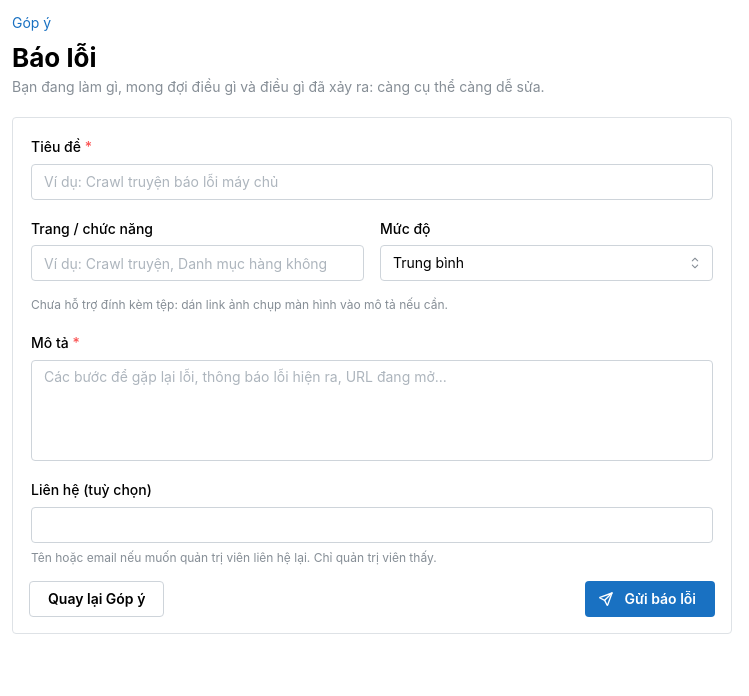
Scenario: BugReportPage › không gửi gì khi thiếu tiêu đề hoặc mô tả quá ngắn
Type "ab" into the field labelled "Tiêu đề *". click: (372, 182)
box: [31,164,713,200]
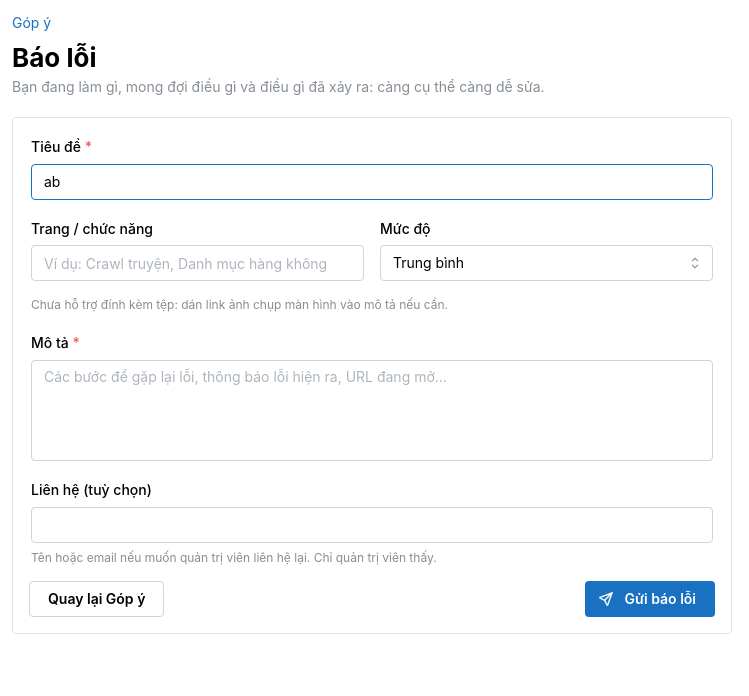
Type "ngắn" into the text box labelled "Mô tả *". click: (372, 410)
box: [31,360,713,461]
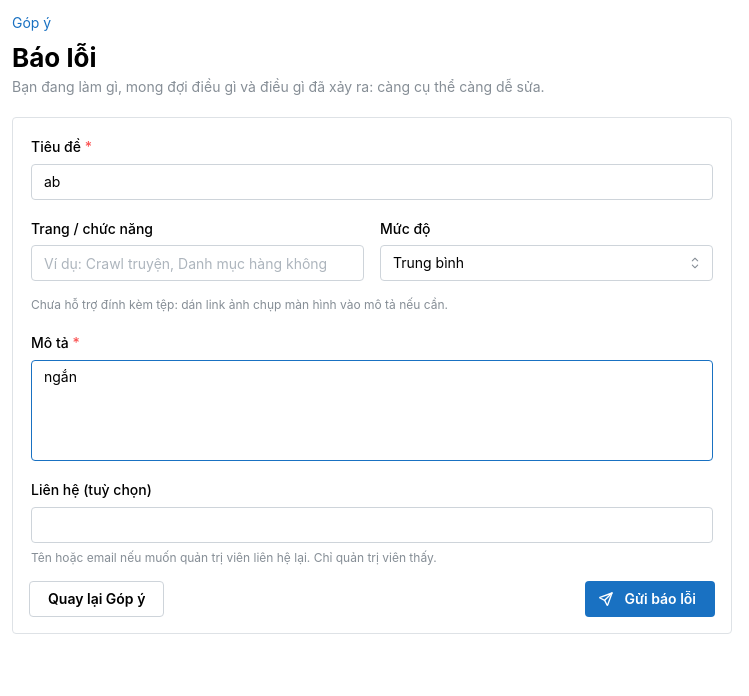
Click the button "Gửi báo lỗi". click: click(650, 599)
box: [586,581,715,617]
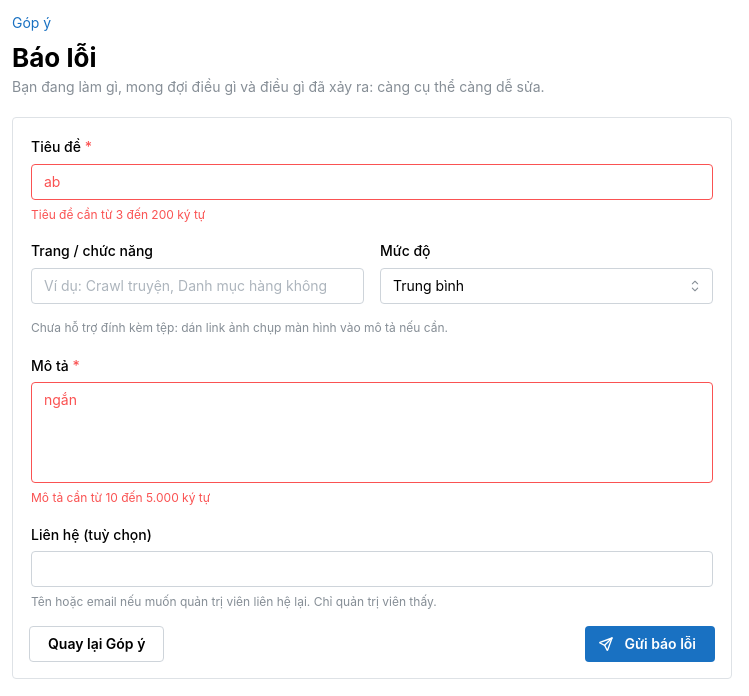
Expected: the text "Tiêu đề cần từ 3 đến 200 ký tự" is shown, [31,207,205,222]
Expected: the text "Mô tả cần từ 10 đến 5.000 ký tự" is shown, [31,490,210,505]
